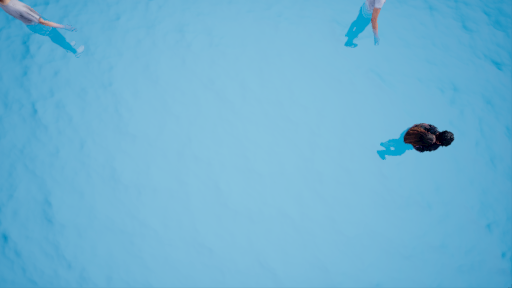person: (1, 1, 90, 62), (371, 120, 454, 163)
